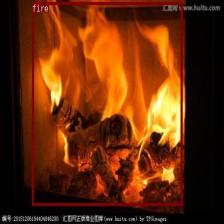fire: (31, 2, 182, 206)
